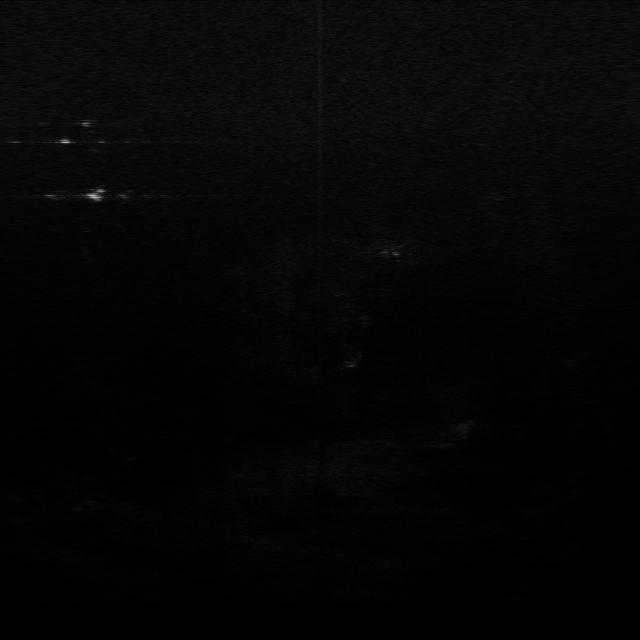rov: (80, 184, 116, 206)
